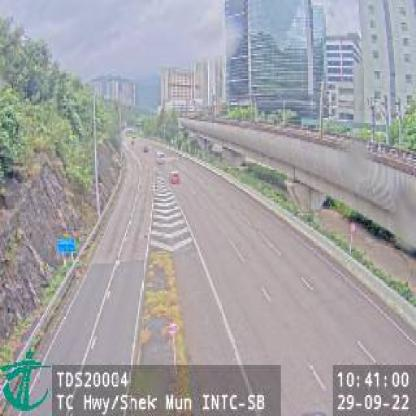Car: (169, 166, 181, 184), (152, 149, 165, 165)
